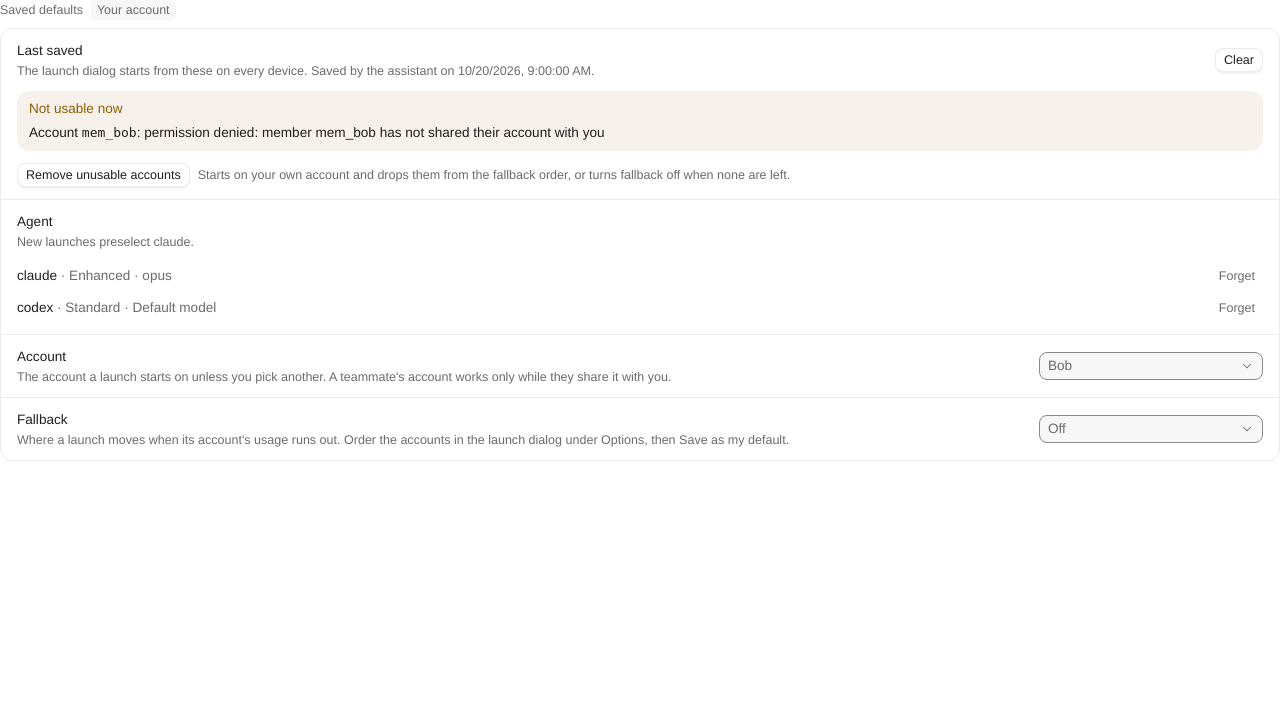
Scenario: saved launch defaults settings › starts over when a different member signs in
Click the 1st button named "Clear" at coordinates (1239, 60), box left=1215, top=48, right=1263, bottom=72
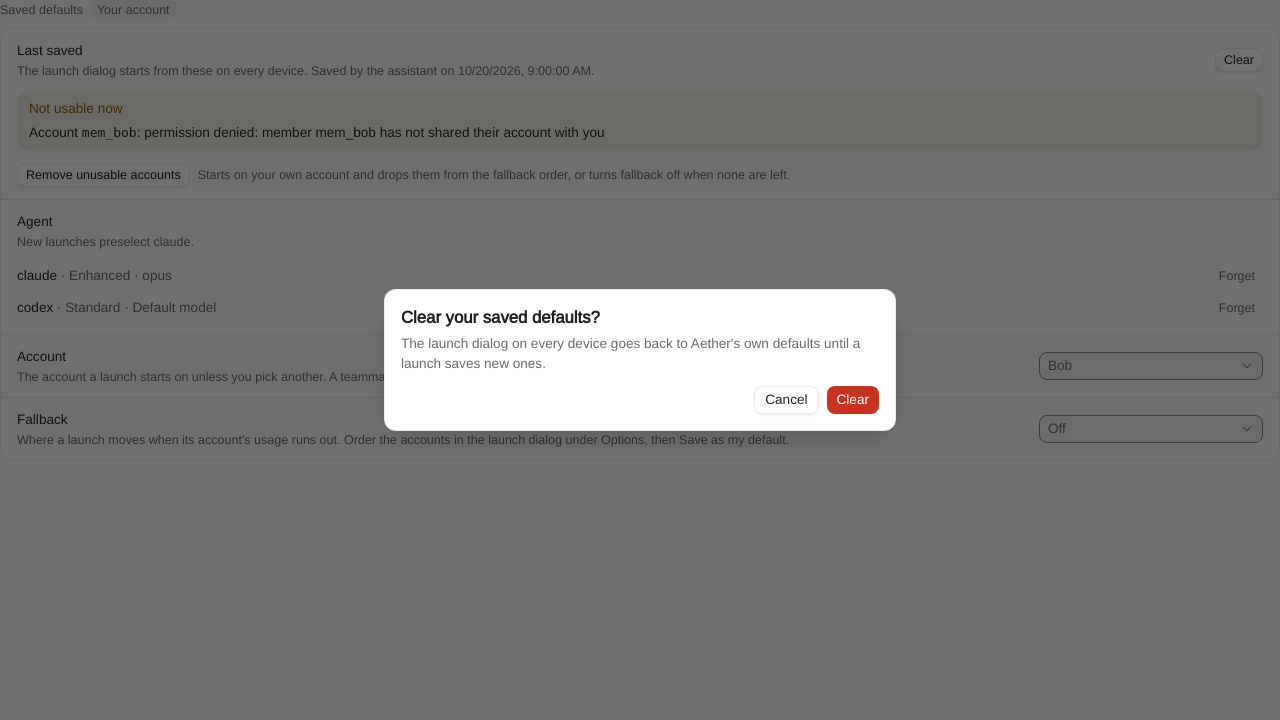
Result: the dialog is shown at left=384, top=289, right=896, bottom=431
